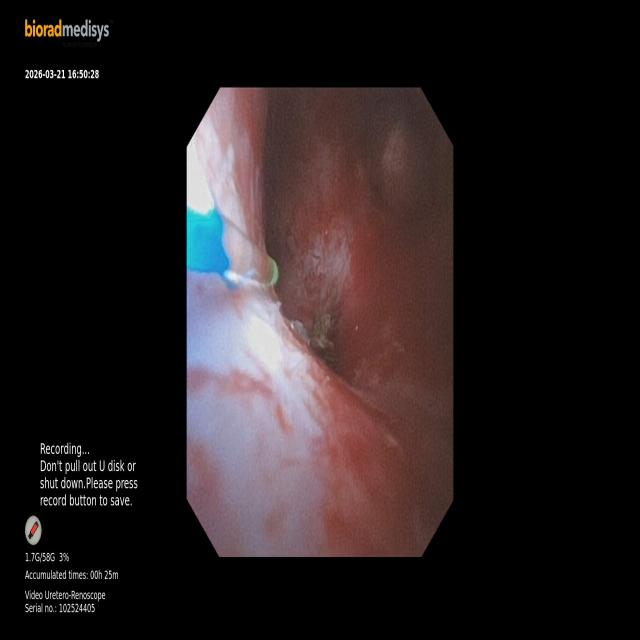laser-fibre: (223, 219, 276, 284)
